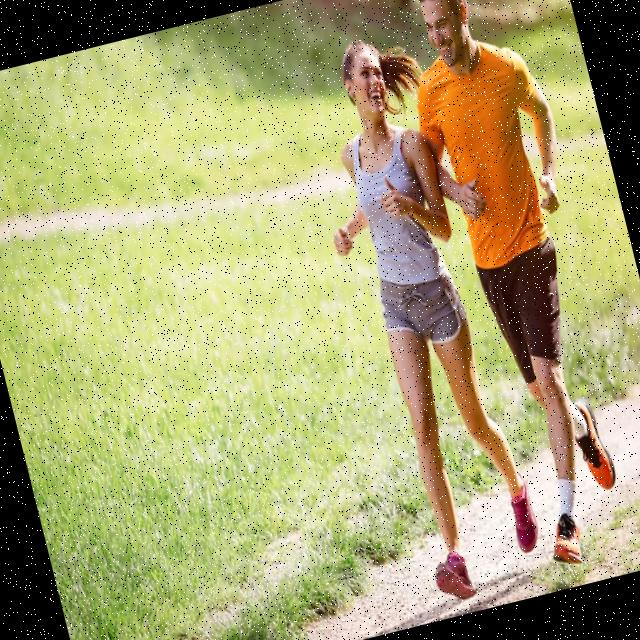Person: (284, 24, 554, 614), (374, 0, 640, 577)
